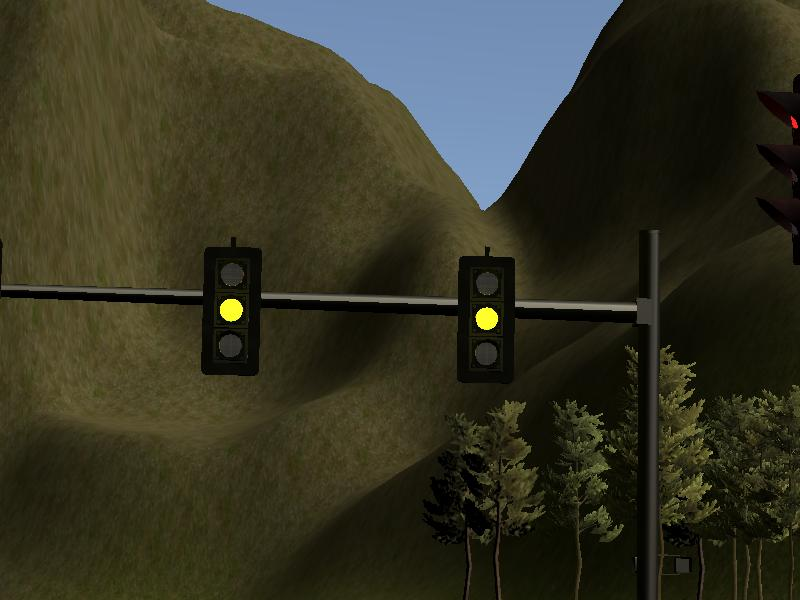not_red: (204, 246, 259, 374), (462, 256, 514, 382)
